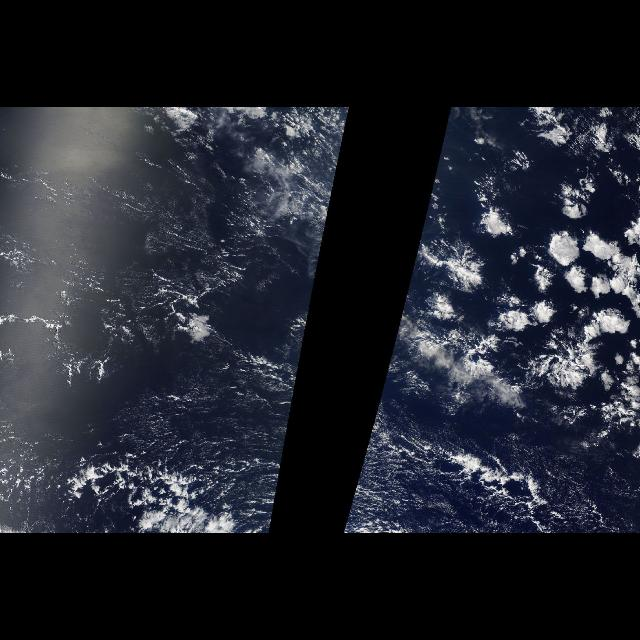Flower: (426, 109, 640, 455)
Gravel: (29, 144, 344, 514), (346, 327, 398, 513)
Sugar: (103, 336, 304, 486), (343, 336, 475, 532)
